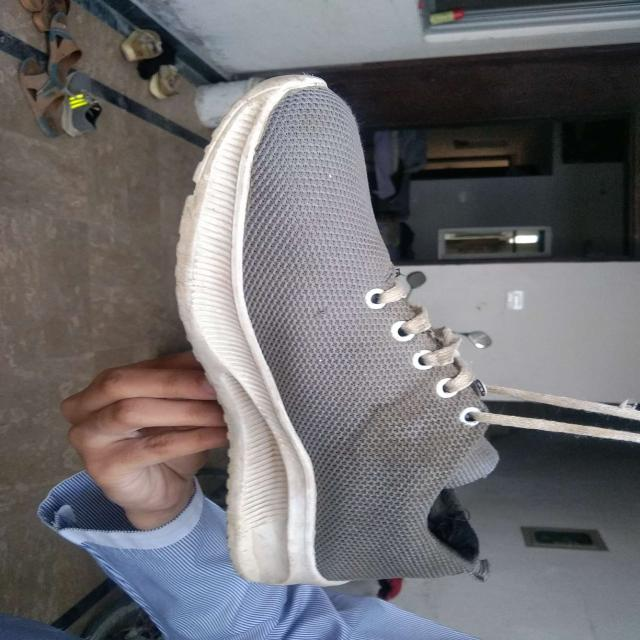shoes: (174, 74, 505, 587)
